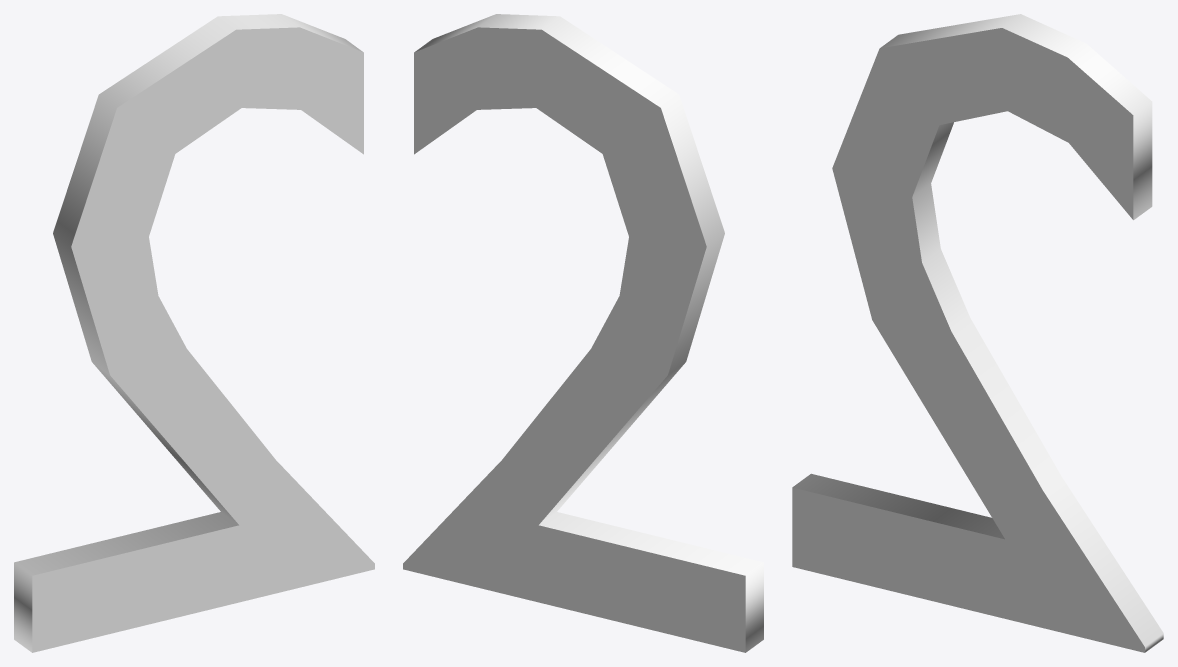
Rendered from Two.obj.
3 renders of one model, left to right at view 1: azimuth 30°, elevation 25°; view 2: azimuth 150°, elevation 25°; view 3: azimuth 330°, elevation 25°, orthographic. The views are drawn at different scales.
Parts seen in each view (by area): view 1: テキスト; view 2: テキスト; view 3: テキスト.
Boxes of the visible parts, x1,y1,x2,y2 form: テキスト: [14, 14, 374, 652]; テキスト: [403, 14, 763, 652]; テキスト: [792, 14, 1163, 652].
Bounding box in the file's own units: 0.432 × 0.691 × 0.04.
1 material, 1 textured.
